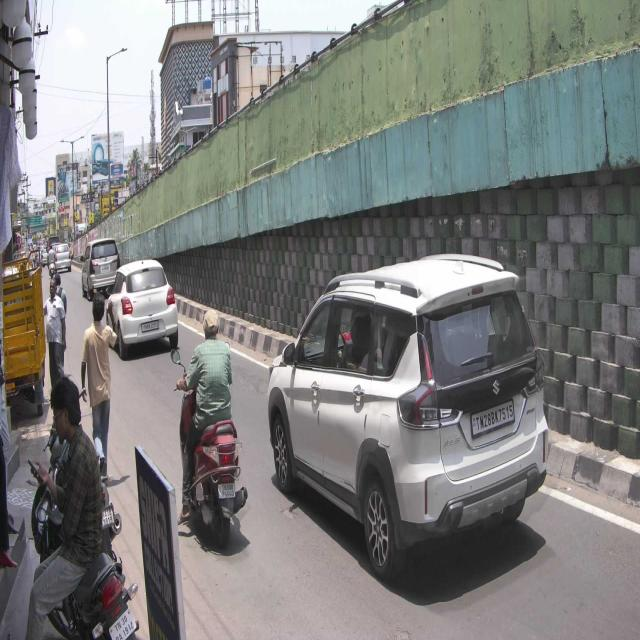single_rider: (170, 306, 250, 550)
